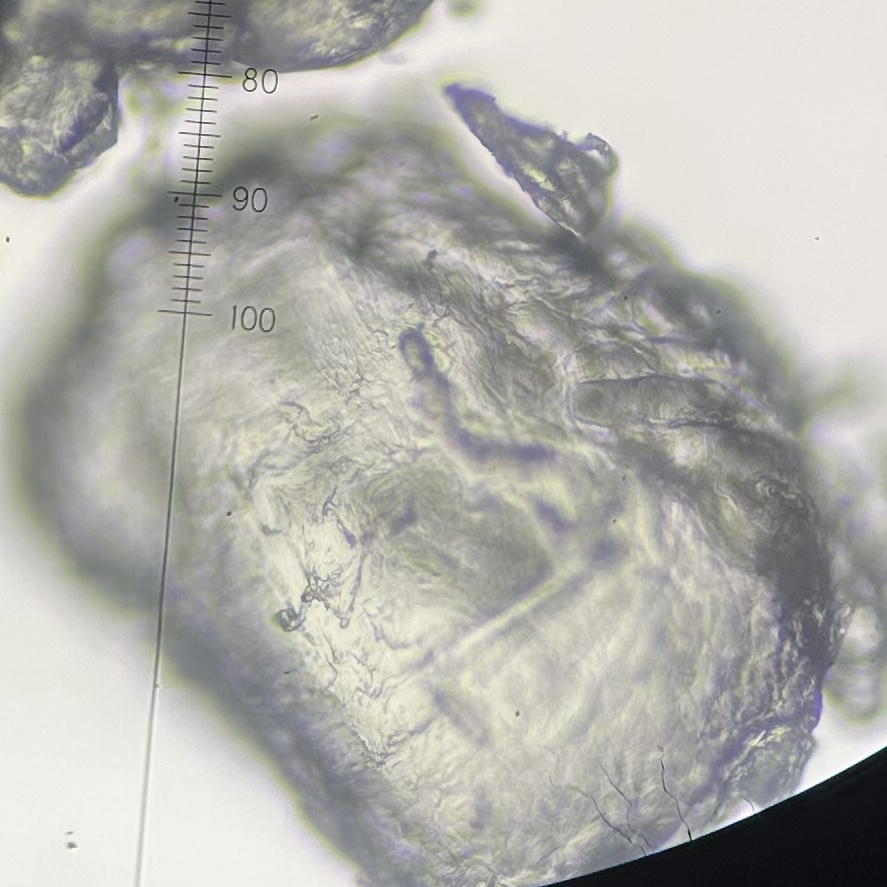microplastic: (24, 116, 887, 886), (1, 1, 436, 198), (439, 80, 621, 248)
